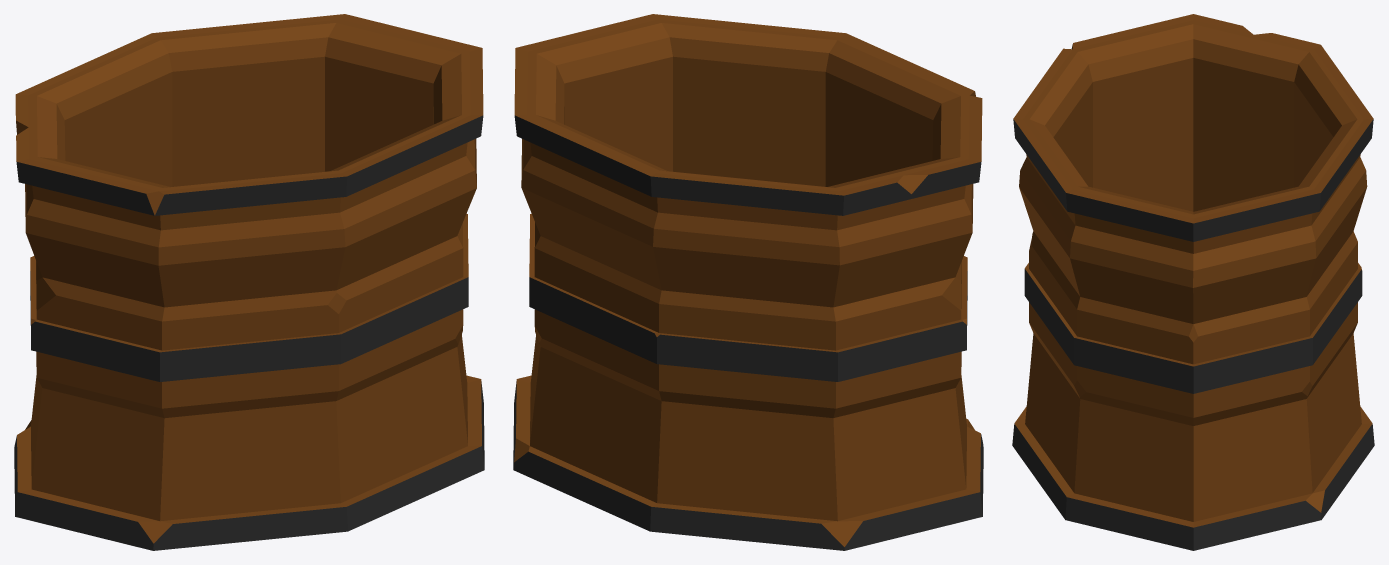
Rendered from catchBarrel02.glb.
3 renders of one model, left to right at view 1: azimuth 30°, elevation 25°; view 2: azimuth 150°, elevation 25°; view 3: azimuth 270°, elevation 25°, orthographic. The views are drawn at different scales.
Visible parts, largest first — view 1: Cylinder; view 2: Cylinder; view 3: Cylinder.
Boxes of the visible parts, x1=… form: Cylinder: x1=14, y1=14, x2=484, y2=550; Cylinder: x1=513, y1=14, x2=983, y2=550; Cylinder: x1=1012, y1=14, x2=1374, y2=550.
Bounding box in the file's own units: 1.11 × 0.7999 × 0.8039.
